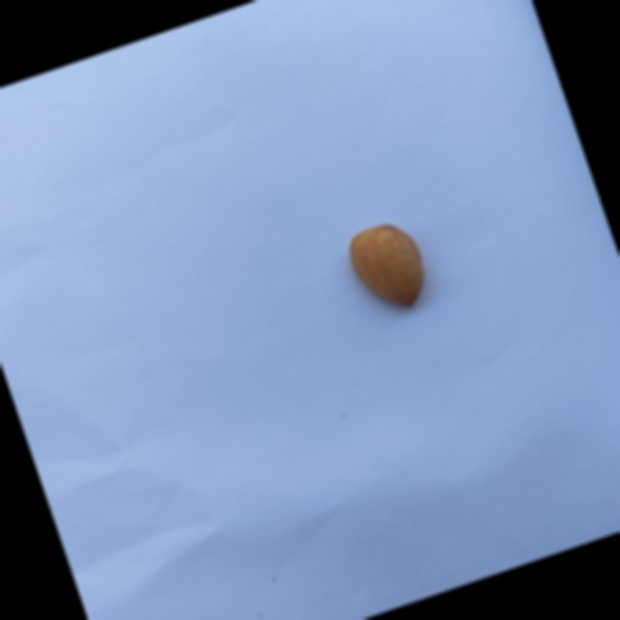grade2: (336, 212, 439, 325)
